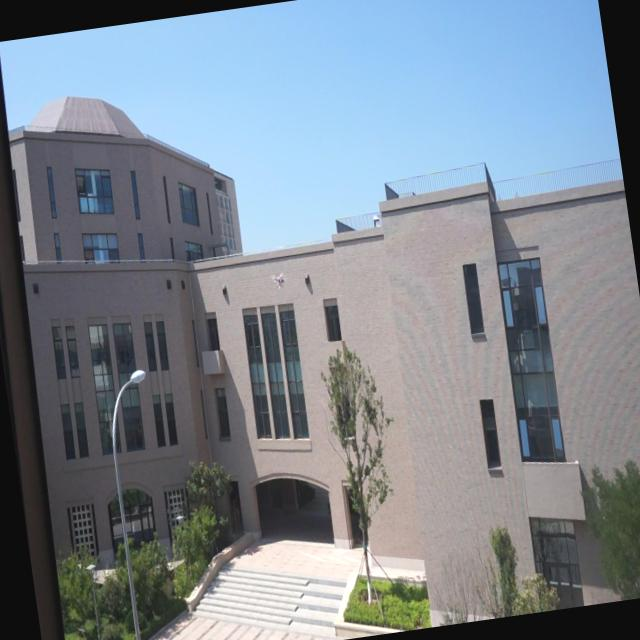drone: (270, 269, 290, 291)
